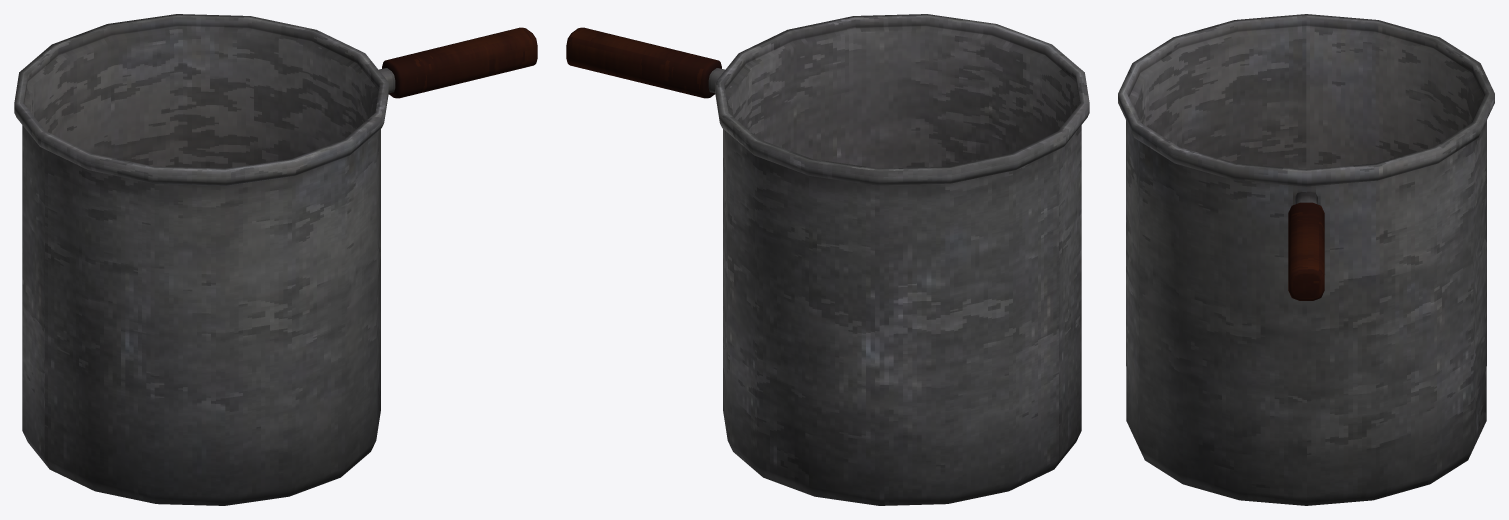
File: Pan_A.glb
3 views of the same model, side by side, from view 1: azimuth 30°, elevation 25°; view 2: azimuth 150°, elevation 25°; view 3: azimuth 270°, elevation 25° (orthographic).
Parts seen in each view (by area): view 1: Pan_A.001; view 2: Pan_A.001; view 3: Pan_A.001.
Part boxes in pixels (box(x1,y1,x2,y2)): Pan_A.001: box(14, 14, 537, 505); Pan_A.001: box(566, 14, 1089, 505); Pan_A.001: box(1118, 14, 1494, 505).
Bounding box in the file's own units: 0.3145 × 0.21 × 0.2091.
1 material, 1 textured.
